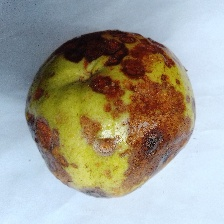guava: (9, 16, 179, 215)
